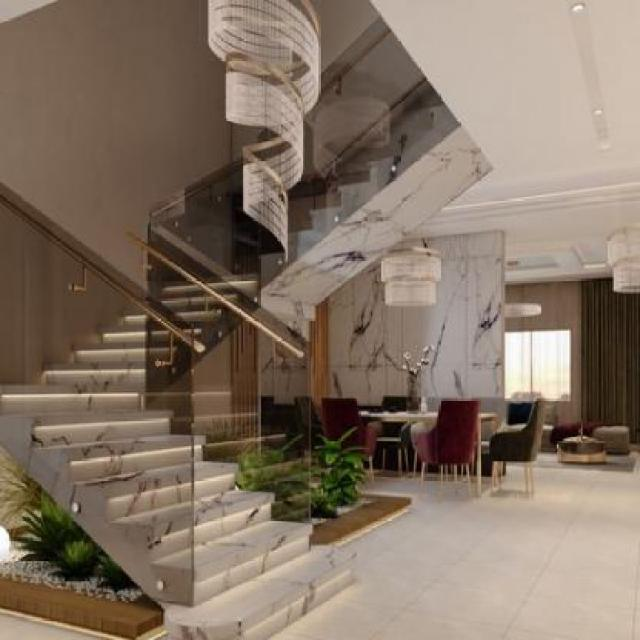stair: (1, 226, 364, 639)
